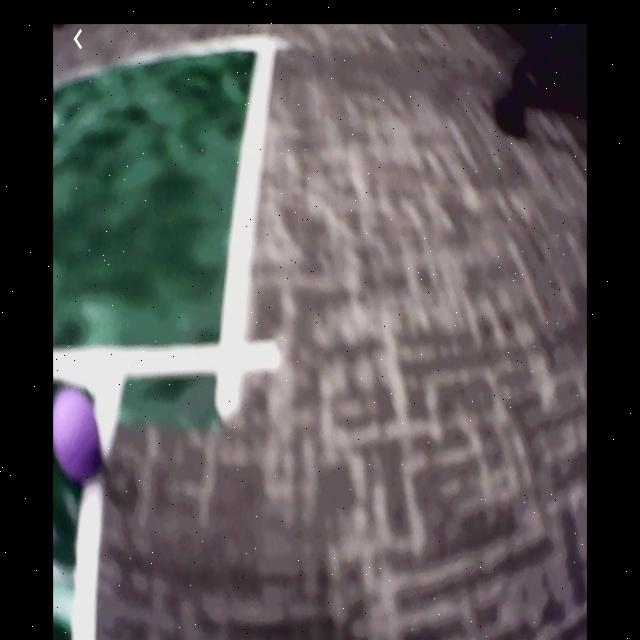ball: (55, 382, 106, 485)
